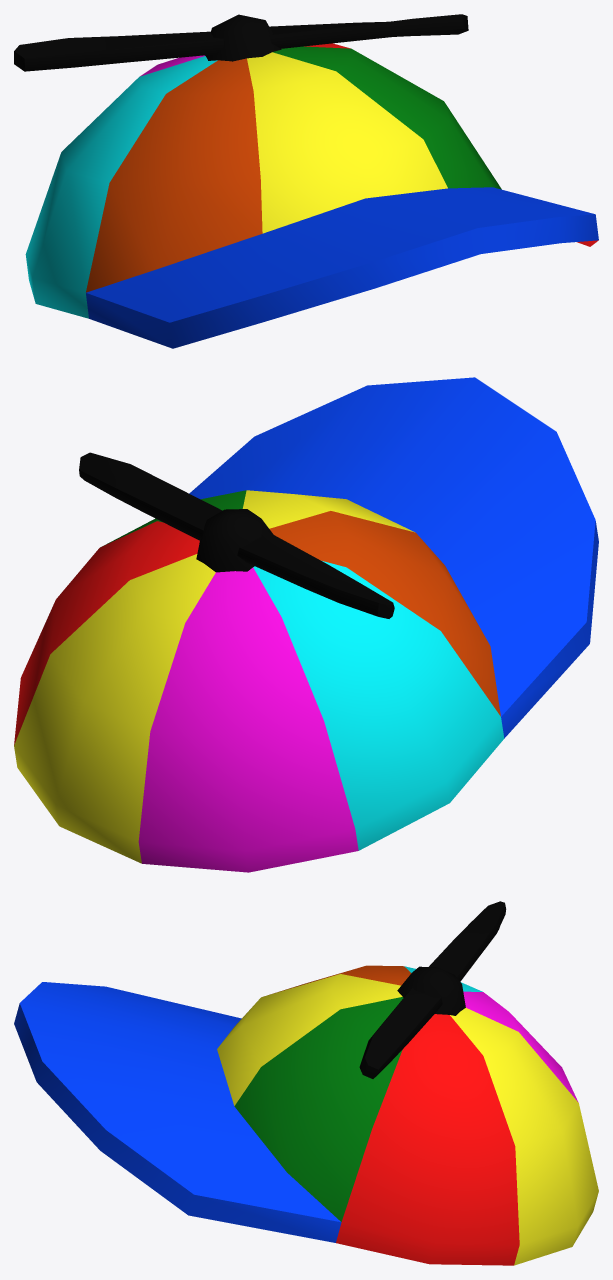
The model's file is ChildHat.FBX.
3 views of the same model, one above another, from view 1: azimuth 30°, elevation 25°; view 2: azimuth 150°, elevation 25°; view 3: azimuth 270°, elevation 25° (orthographic). The views are drawn at different scales.
Parts seen in each view (by area): view 1: ChildHat; view 2: ChildHat; view 3: ChildHat.
Part boxes in pixels (x1,y1,x2,y2): ChildHat: (14,14,598,348); ChildHat: (14,377,598,872); ChildHat: (14,901,598,1265).
Size of the model in its own units: 0.5472 by 0.7564 by 0.3465.
